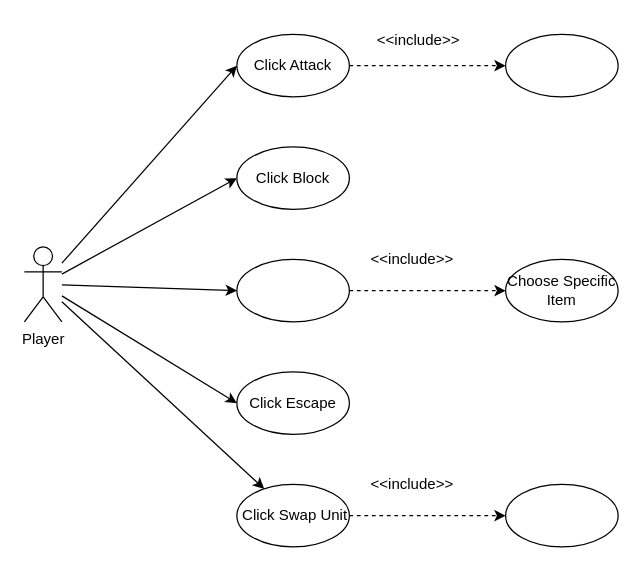
Image size: 640x569. Some labels were removed from this diagram. The box of each missing label's shape, as (x1, y1, x2, y2) in pixels:
Choose Specific Attack: (504, 33, 618, 97)
Choose Units to Swap: (504, 483, 618, 547)
Click Use Item: (236, 258, 349, 322)
